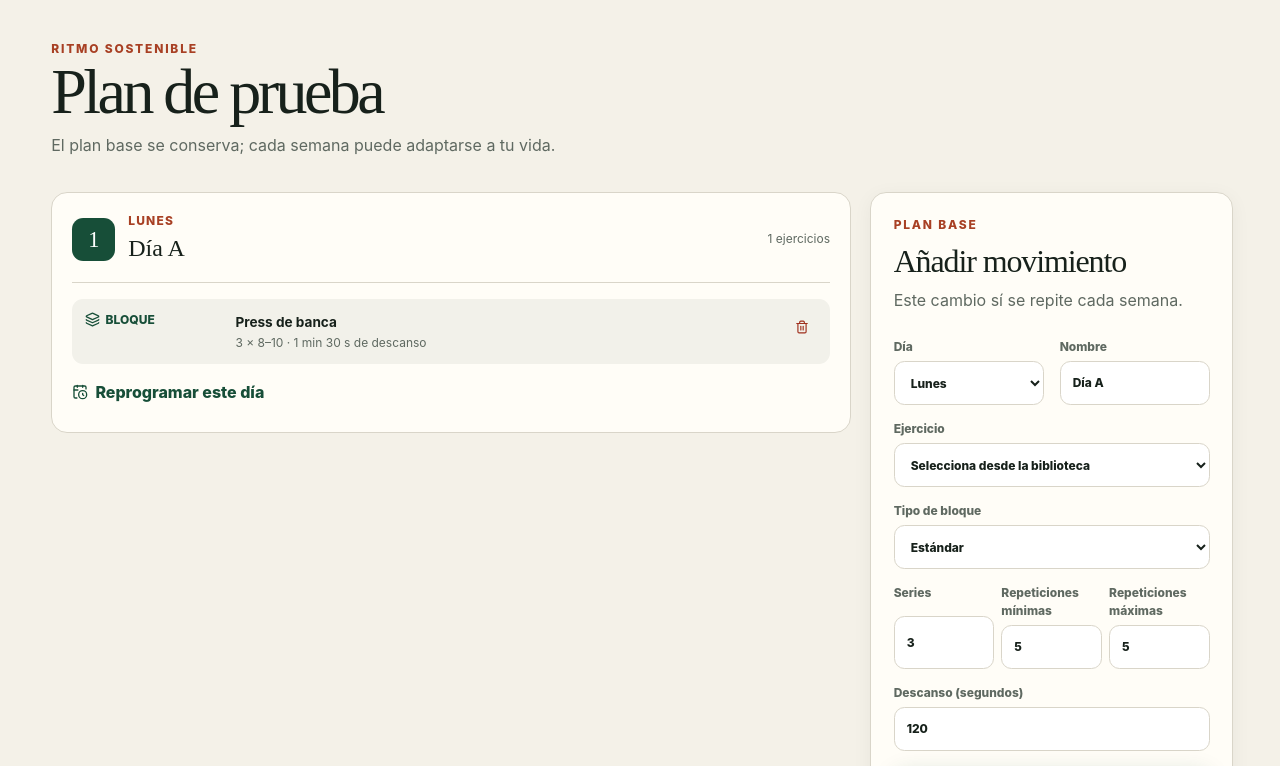
Scenario: PlanPage interaction and scheduling › aligns the original date and moves focus to the rescheduling form
The image size is (1280, 766).
Click the button with aria-label "Reprogramar Lunes · Día A": [168, 392] box [72,372,264,412]
(page scrolled)
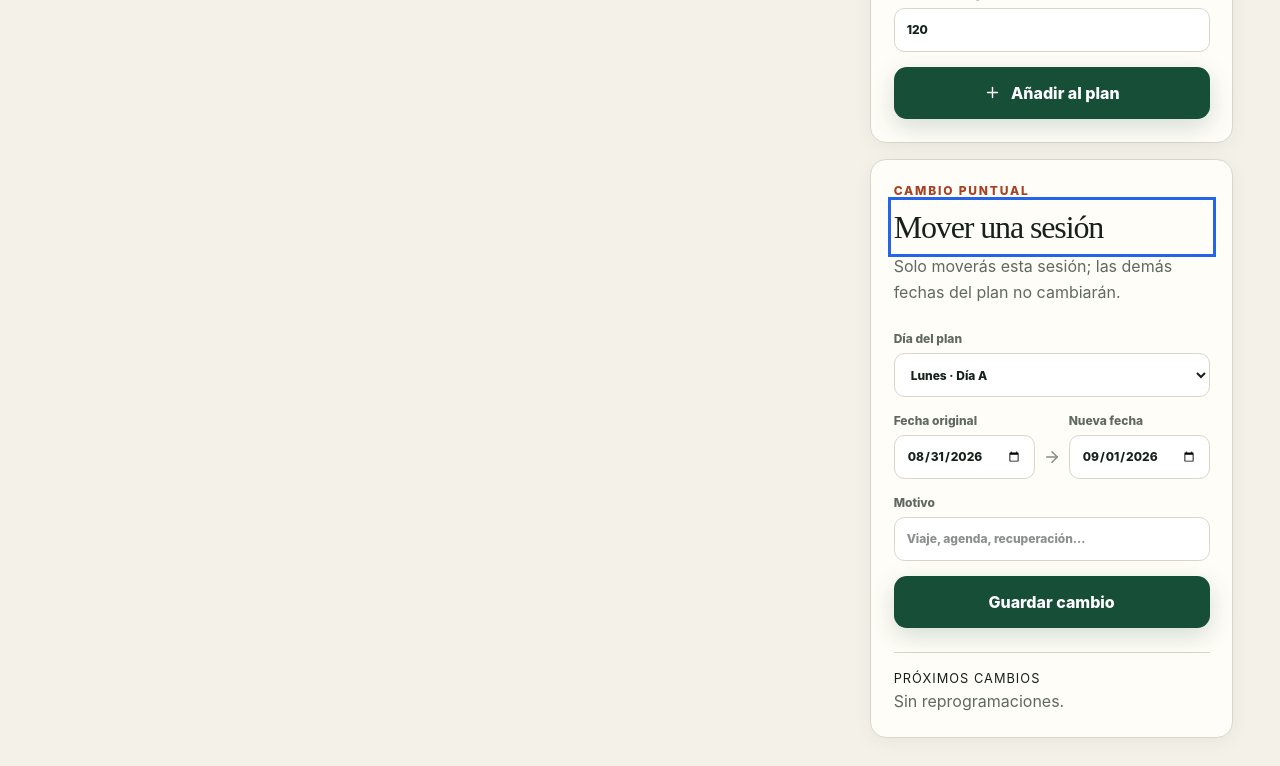
Now the dropdown labelled "Día del plan" shows "Lunes · Día A", box [894,353,1210,397]
Now the date field labelled "Fecha original" holds "2026-08-31", box [894,435,1035,479]
Now the date field labelled "Nueva fecha" holds "2026-09-01", box [1069,435,1210,479]
